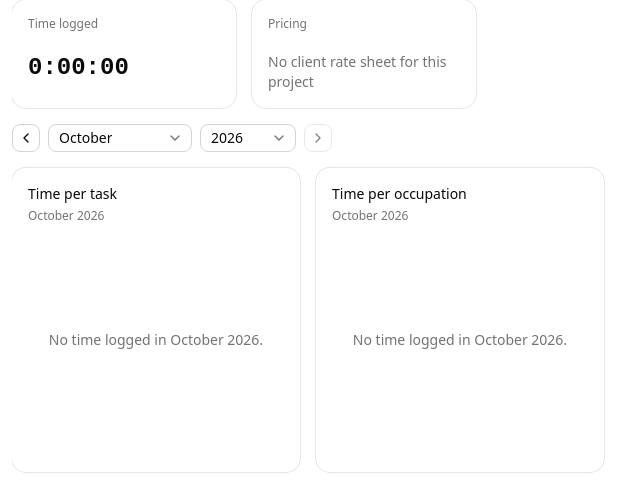
it: OverviewTab › offers years from this project's first logged entry to now
The image size is (622, 490).
Expected: the button named "Previous month" is enabled, [12, 124, 40, 152]
Click the dropdown named "Year": [248, 138] box [200, 124, 296, 152]
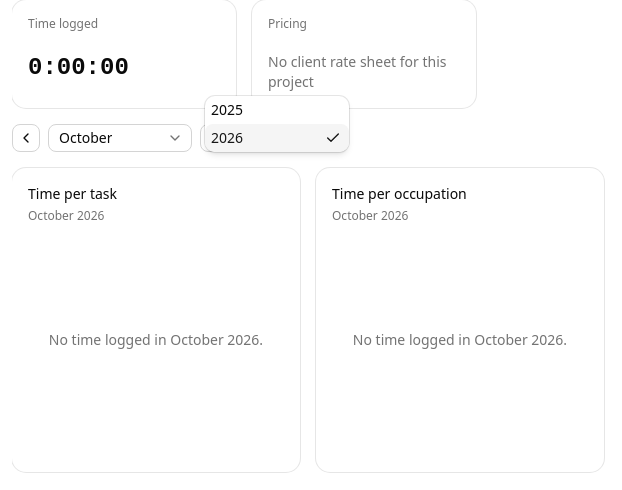
Expected: the options read "2025", "2026", in this order, [211, 100, 243, 119]; [205, 124, 349, 152]
